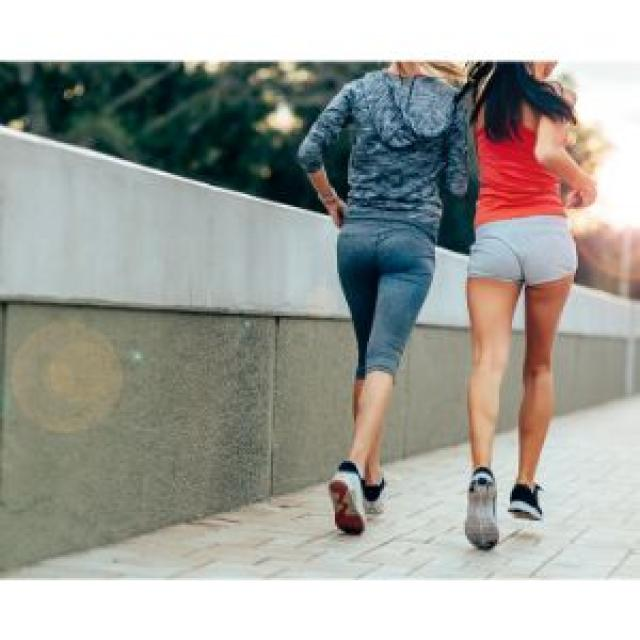nonfall: (296, 90, 458, 523), (460, 94, 598, 525)
